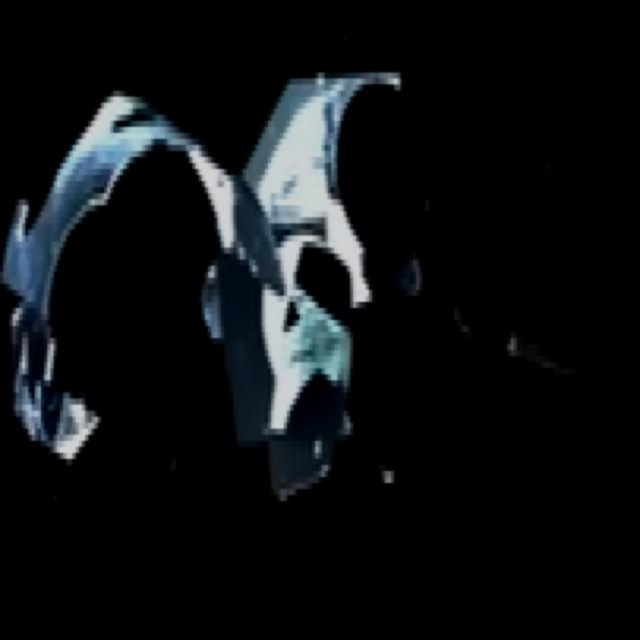large_debris: (6, 47, 426, 503)
medium_debris: (450, 300, 592, 389)
small_debris: (354, 514, 396, 551), (464, 11, 500, 49), (533, 145, 566, 184), (571, 236, 609, 269), (160, 447, 192, 483), (457, 177, 483, 217)
